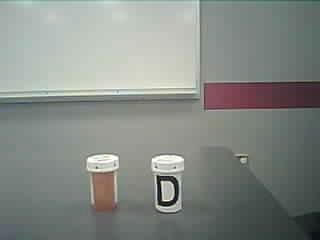Bottle D: (148, 149, 189, 218)
